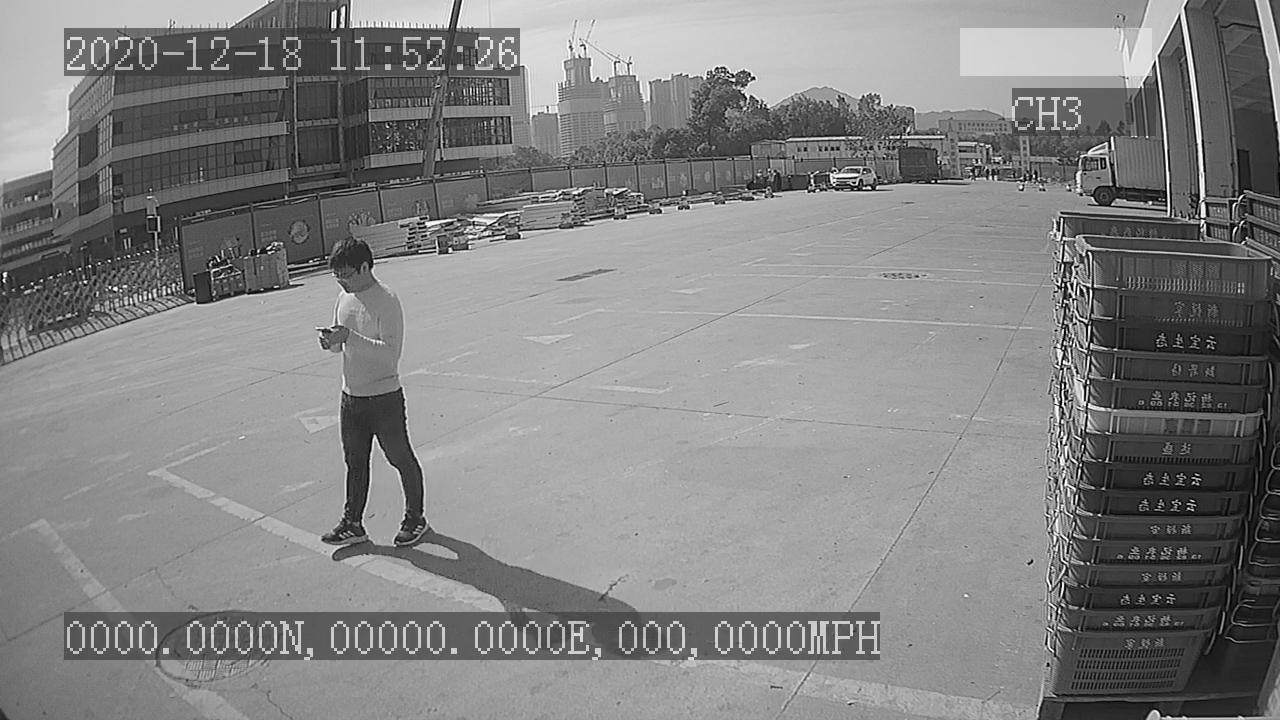person: (304, 233, 436, 558)
